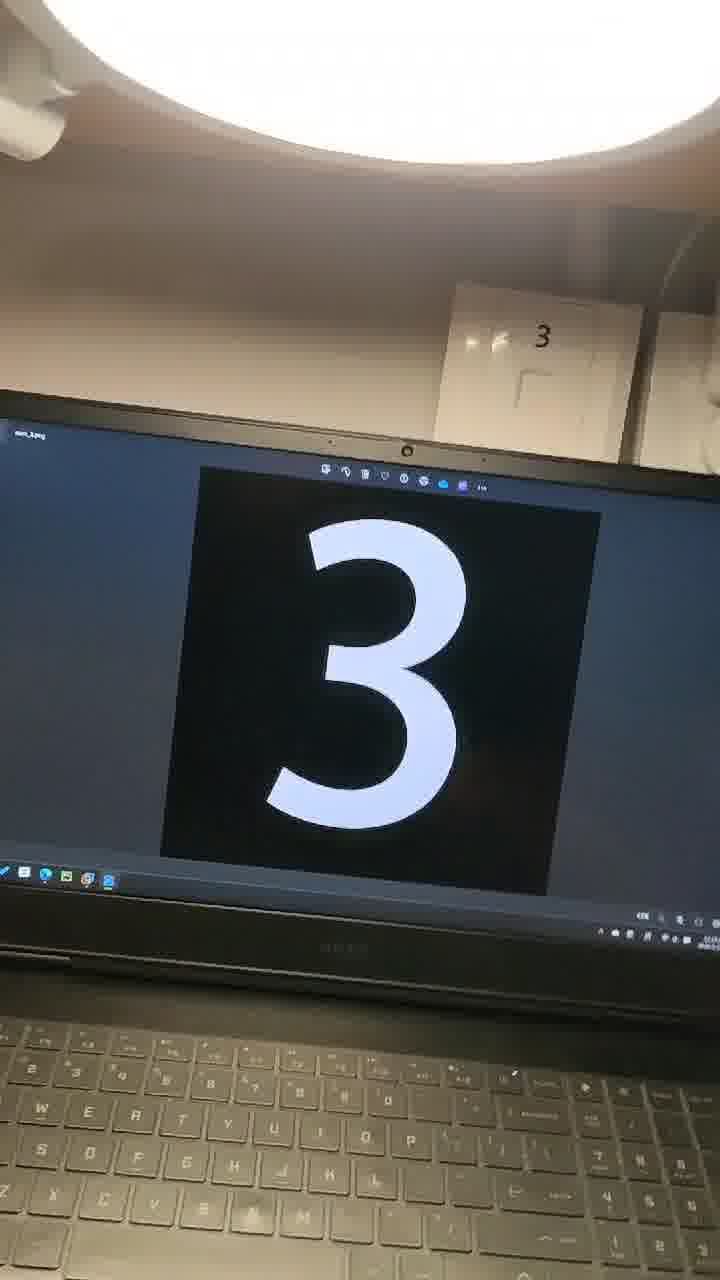three: (254, 468, 566, 955)
